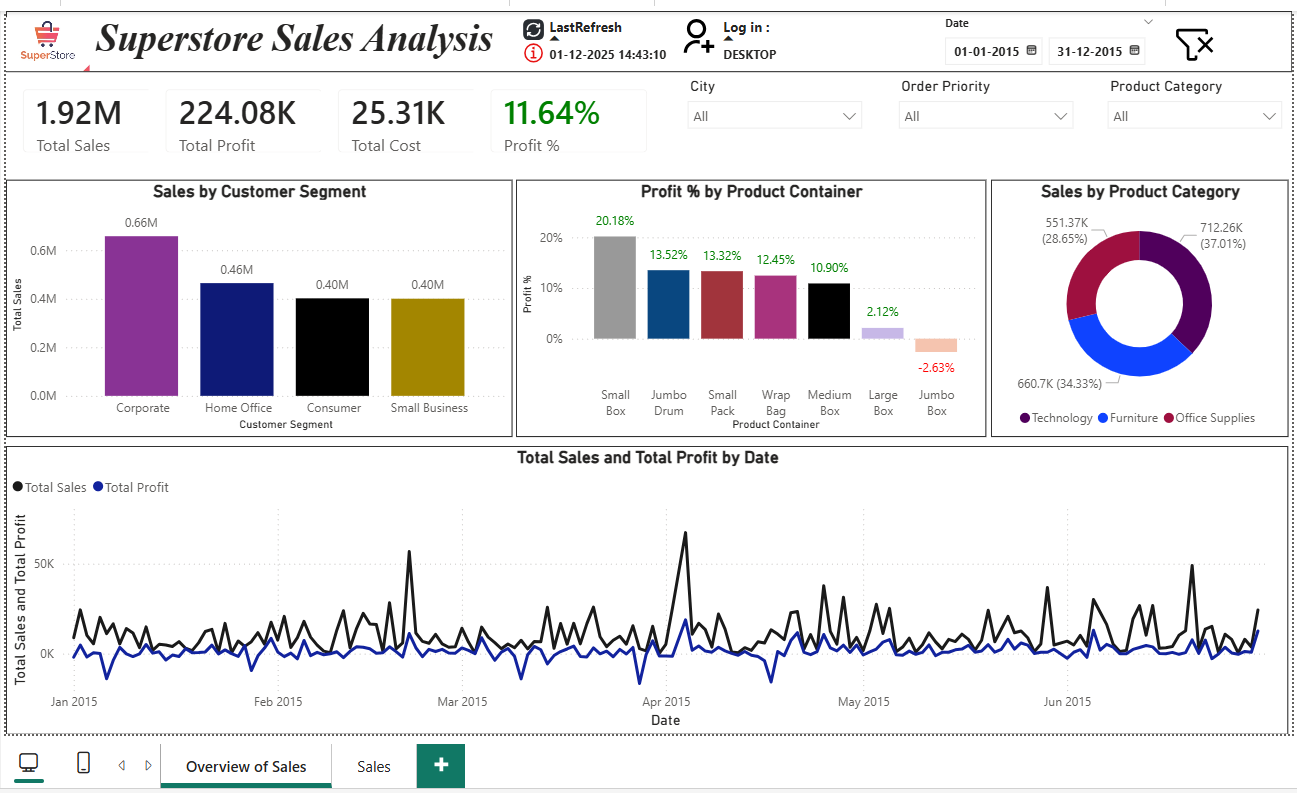

Layout of this report page (visuals, bound fields, positions):
{"tool":"powerbi","page":{"name":"Overview ","canvas":[1280,720],"ordinal":0},"visuals":[{"type":"textbox","box":[0,0,1280,61],"z":0,"group":"g1"},{"type":"cardVisual","fields":{"Data":["1 Measure Table.Total Sales"]},"box":[0,61,165.4,97],"z":0},{"type":"tableEx","fields":{"Values":["Refresh Table.LastRefresh"]},"box":[529.9,0,149.3,61],"z":1000,"group":"g1"},{"type":"cardVisual","fields":{"Data":["Sum(Orders.Profit)"]},"box":[141.8,61,190.3,97],"z":1000},{"type":"tableEx","title":"Log in :","fields":{"Values":["1 Measure Table.User"]},"box":[702.8,0,245.1,59.7],"z":2000,"group":"g1"},{"type":"cardVisual","fields":{"Data":["Sum(Orders.Shipping Cost)"]},"box":[313.5,61,190.3,97],"z":2000},{"type":"slicer","fields":{"Values":["Calendar.Date"]},"box":[921.8,0,232.6,61],"z":3000,"group":"g1"},{"type":"cardVisual","fields":{"Data":["1 Measure Table.Profit %"]},"box":[465.2,61,190.3,97],"z":3000},{"type":"image","box":[1159.4,12.4,47.3,42.3],"z":4000,"group":"g1"},{"type":"slicer","fields":{"Values":["Orders.City"]},"box":[668,61,194.1,69.7],"z":4000},{"type":"image","box":[668,0,38.6,51],"z":5000,"group":"g1"},{"type":"slicer","fields":{"Values":["Orders.Order Priority"]},"box":[878.2,61,194.1,69.7],"z":5000},{"type":"image","box":[503.8,6.2,42.3,24.9],"z":6000,"group":"g1"},{"type":"slicer","fields":{"Values":["Orders.Product Category"]},"box":[1086,61,194.1,69.7],"z":6000},{"type":"image","box":[503.8,27.4,42.3,28.6],"z":6500,"group":"g1"},{"type":"image","box":[0,6.2,83.3,53.5],"z":7000,"group":"g1"},{"type":"clusteredColumnChart","title":"Sales by Customer Segment","fields":{"Category":["Orders.Customer Segment"],"Y":["1 Measure Table.Total Sales"]},"box":[0,167.9,503.8,256.3],"z":7000},{"type":"lineChart","fields":{"Y":["1 Measure Table.Total Sales","1 Measure Table.Total Profit"],"Category":["Calendar.Date"]},"box":[0,432.9,1276.3,287.4],"z":8000},{"type":"lineClusteredColumnComboChart","fields":{"Category":["Orders.Product Container"],"Y":["1 Measure Table.Profit %"]},"box":[507.5,167.9,467.7,256.3],"z":9000},{"type":"donutChart","title":"Sales by Product Category","fields":{"Category":["Orders.Product Category"],"Y":["1 Measure Table.Total Sales"]},"box":[980.2,167.9,296.1,256.3],"z":10000},{"type":"group","id":"g1","title":"Title","box":[0,0,1280,61],"z":11000}]}

Visuals, with their boxes on the page's 1280x720 design canvas (x1, y1, x2, y2). These are canvas units, not pixel positions in the 1297x793 screenshot, which may show the page scaled, cropped or inside an application window:
textbox: <region>0, 0, 1280, 61</region>
cardVisual - 1 Measure Table.Total Sales: <region>0, 61, 165, 158</region>
tableEx - Refresh Table.LastRefresh: <region>530, 0, 679, 61</region>
cardVisual - Sum(Orders.Profit): <region>142, 61, 332, 158</region>
"Log in :" tableEx: <region>703, 0, 948, 60</region>
cardVisual - Sum(Orders.Shipping Cost): <region>314, 61, 504, 158</region>
slicer - Calendar.Date: <region>922, 0, 1154, 61</region>
cardVisual - 1 Measure Table.Profit %: <region>465, 61, 656, 158</region>
image: <region>1159, 12, 1207, 55</region>
slicer - Orders.City: <region>668, 61, 862, 131</region>
image: <region>668, 0, 707, 51</region>
slicer - Orders.Order Priority: <region>878, 61, 1072, 131</region>
image: <region>504, 6, 546, 31</region>
slicer - Orders.Product Category: <region>1086, 61, 1280, 131</region>
image: <region>504, 27, 546, 56</region>
image: <region>0, 6, 83, 60</region>
"Sales by Customer Segment" clusteredColumnChart: <region>0, 168, 504, 424</region>
lineChart - 1 Measure Table.Total Sales x 1 Measure Table.Total Profit: <region>0, 433, 1276, 720</region>
lineClusteredColumnComboChart - Orders.Product Container x 1 Measure Table.Profit %: <region>508, 168, 975, 424</region>
"Sales by Product Category" donutChart: <region>980, 168, 1276, 424</region>
"Title" group: <region>0, 0, 1280, 61</region>
